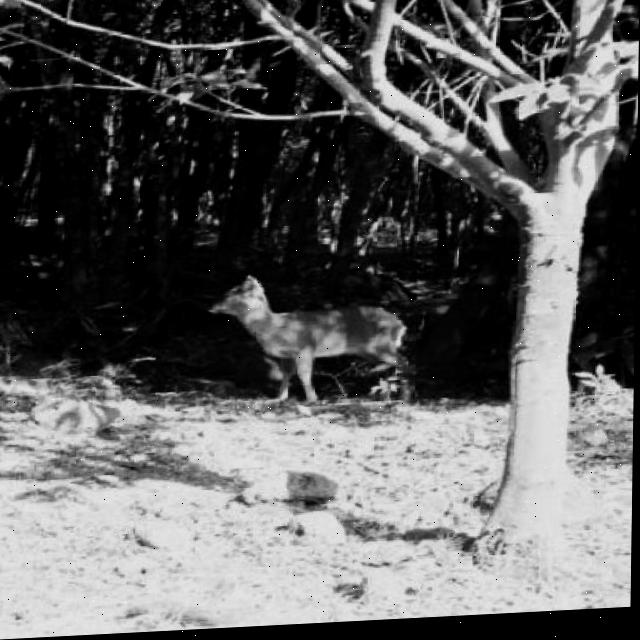Deer: (186, 265, 475, 436)
